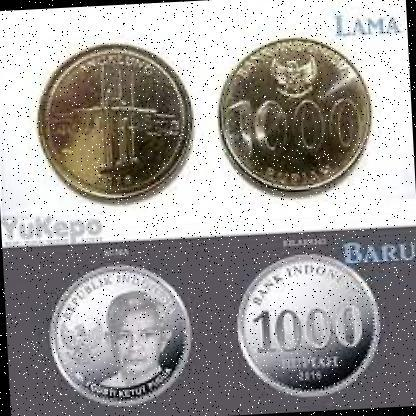coin_1000_e2010: (38, 43, 199, 206), (212, 35, 376, 194)
